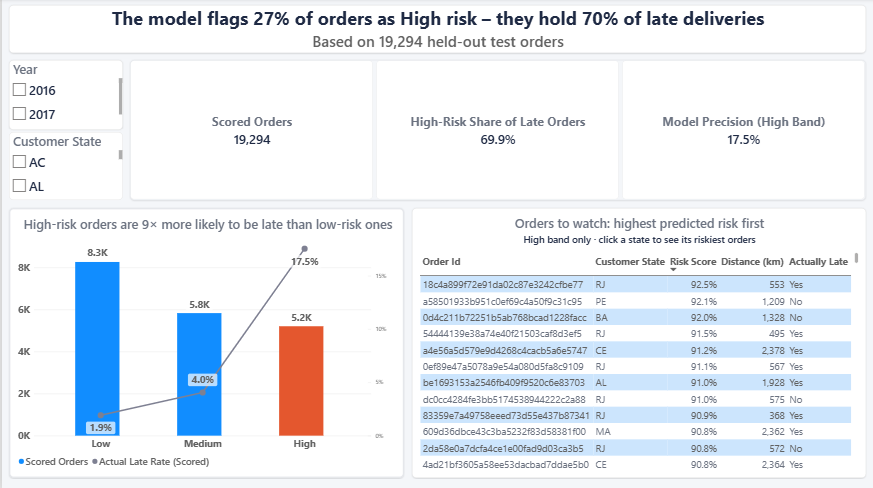

This screenshot's page, from the dashboard's own definition file:
{"tool":"powerbi","page":{"name":"Order Risk","canvas":[1920,1080],"ordinal":2},"visuals":[{"type":"slicer","fields":{"Values":["order_analysis.customer_state"]},"box":[15.4,295.3,251.3,149.9],"z":0},{"type":"slicer","fields":{"Values":["order_analysis.order_purchase_timestamp.Variation.Date Hierarchy.Year"]},"box":[15.4,136.7,251.3,154.3],"z":2000},{"type":"textbox","title":"The model flags 27% of orders as High risk – they hold 70% of late deliveries","box":[15.4,15.4,1888.9,105.8],"z":3000},{"type":"lineClusteredColumnComboChart","title":"High-risk orders are 9× more likely to be late than low-risk ones","fields":{"Category":["order_risk_predictions.risk_band"],"Y":["order_risk_predictions.Scored Orders"],"Y2":["order_risk_predictions.Actual Late Rate (Scored)"]},"box":[15.4,462.9,870.6,595.1],"z":6000},{"type":"cardVisual","fields":{"Data":["order_risk_predictions.Scored Orders","order_risk_predictions.High-Risk Share of Late Orders","order_risk_predictions.Model Precision (High Band)"]},"box":[282.1,136.7,1622.2,308.6],"z":6001},{"type":"tableEx","title":"Orders to watch: highest predicted risk first","fields":{"Values":["order_risk_predictions.order_id","order_analysis.customer_state","order_risk_predictions.Risk Score","order_risk_predictions.Distance (km)","order_risk_predictions.Actually Late"]},"box":[903.7,462.9,1000.7,595.1],"z":6002}]}

Visuals, with their boxes in screenshot pixels (x1, y1, x2, y2), scaled from the page's 1920x1080 canvas onto the 873x488 screenshot:
slicer - order_analysis.customer_state: 7:133:121:201
slicer - order_analysis.order_purchase_timestamp.Variation.Date Hierarchy.Year: 7:62:121:131
"The model flags 27% of orders as High risk – they hold 70% of late deliveries" textbox: 7:7:866:55
"High-risk orders are 9× more likely to be late than low-risk ones" lineClusteredColumnComboChart: 7:209:403:478
cardVisual - order_risk_predictions.Scored Orders x order_risk_predictions.High-Risk Share of Late Orders: 128:62:866:201
"Orders to watch: highest predicted risk first" tableEx: 411:209:866:478
